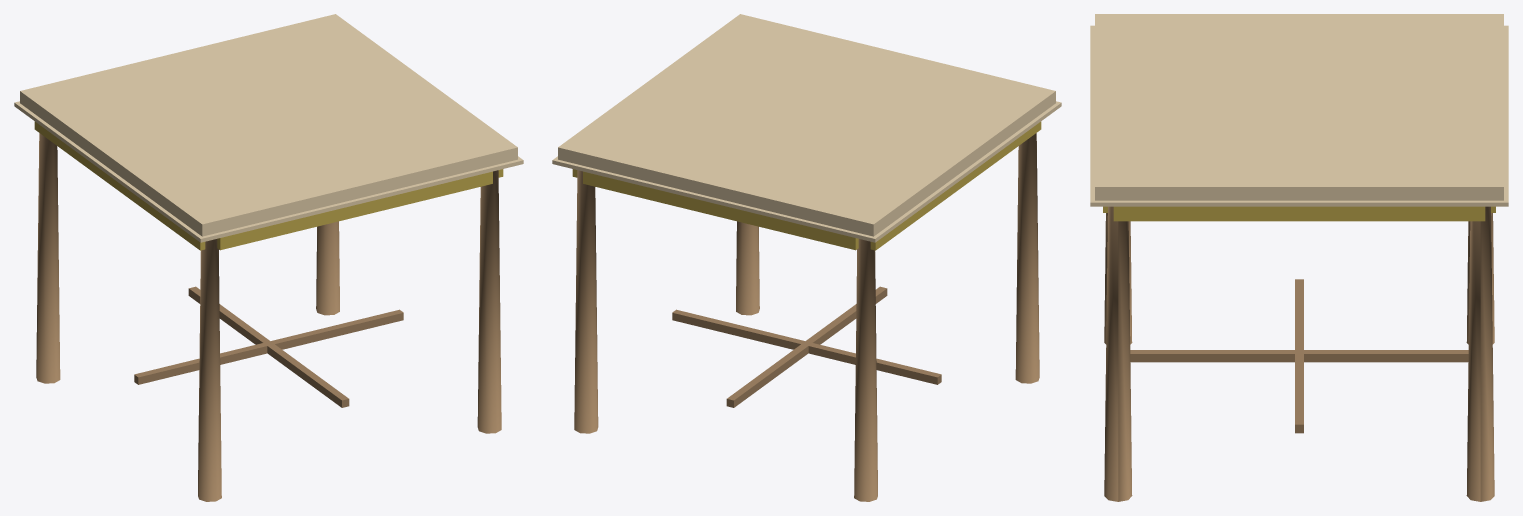
File: table_square.glb
The picture shows the model from 3 angles, left to right: view 1: azimuth 30°, elevation 25°; view 2: azimuth 150°, elevation 25°; view 3: azimuth 270°, elevation 25°; orthographic projection. The views are drawn at different scales.
Visible parts, largest first — view 1: top, leg_fl, leg_fr, leg_bl, apron_fb, top_edge, stretcher_x, leg_br, stretcher_z, apron_lr; view 2: top, leg_bl, leg_br, leg_fl, apron_fb, top_edge, stretcher_x, leg_fr, stretcher_z, apron_lr; view 3: top, leg_br, leg_fr, apron_lr, top_edge, stretcher_z, stretcher_x, leg_bl, leg_fl.
Part boxes in pixels (left/top/right/bottom): top: left=20, top=14, right=517, bottom=236; leg_fl: left=198, top=239, right=221, bottom=501; leg_fr: left=477, top=170, right=501, bottom=433; leg_bl: left=36, top=133, right=60, bottom=383; apron_fb: left=217, top=171, right=492, bottom=250; top_edge: left=14, top=101, right=523, bottom=242; stretcher_x: left=134, top=309, right=403, bottom=384; leg_br: left=316, top=221, right=339, bottom=315; stretcher_z: left=188, top=286, right=349, bottom=407; apron_lr: left=34, top=121, right=503, bottom=250; top: left=558, top=14, right=1055, bottom=236; leg_bl: left=854, top=239, right=877, bottom=501; leg_br: left=574, top=170, right=598, bottom=433; leg_fl: left=1015, top=133, right=1039, bottom=383; apron_fb: left=583, top=171, right=858, bottom=250; top_edge: left=552, top=101, right=1061, bottom=242; stretcher_x: left=672, top=309, right=941, bottom=384; leg_fr: left=736, top=221, right=759, bottom=315; stretcher_z: left=726, top=286, right=887, bottom=407; apron_lr: left=572, top=121, right=1041, bottom=250; top: left=1095, top=14, right=1503, bottom=200; leg_br: left=1466, top=206, right=1494, bottom=501; leg_fr: left=1104, top=206, right=1132, bottom=501; apron_lr: left=1113, top=206, right=1485, bottom=221; top_edge: left=1090, top=25, right=1508, bottom=206; stretcher_z: left=1130, top=350, right=1468, bottom=362; stretcher_x: left=1295, top=279, right=1303, bottom=433; leg_bl: left=1466, top=213, right=1494, bottom=344; leg_fl: left=1104, top=213, right=1132, bottom=344.
Size of the model in its own units: 0.9 by 0.7575 by 0.9.
